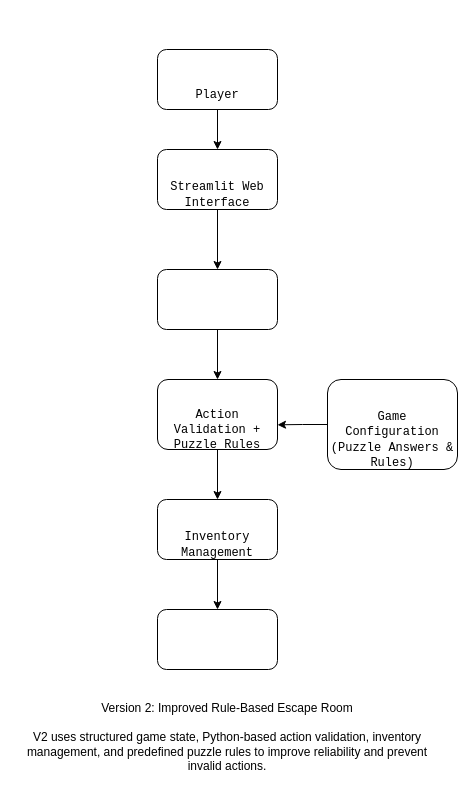
This 475x806 diagram has some shape labels left out. The centre of each missing label's shape, as x and y in pixels:
"Gemini AI Game Master" belongs at point 217,639.
"Python Game Logic + State Manager" belongs at point 217,299.
